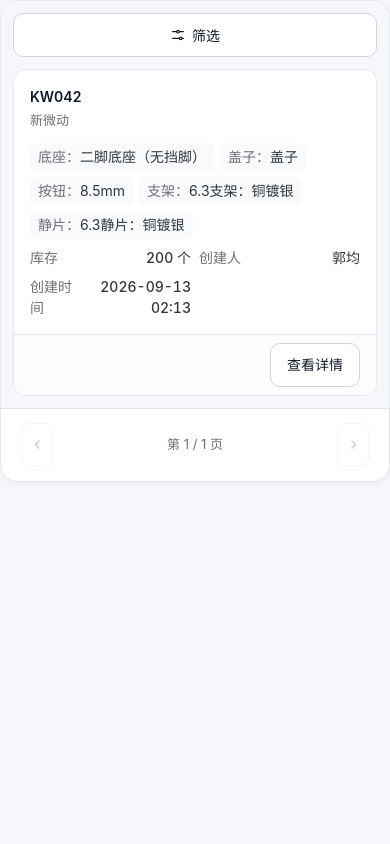
Scenario: 表格渲染 BOM 行，编码入口可打开详情
Click the button "查看详情".
click(315, 364)  # box [270,342,360,386]
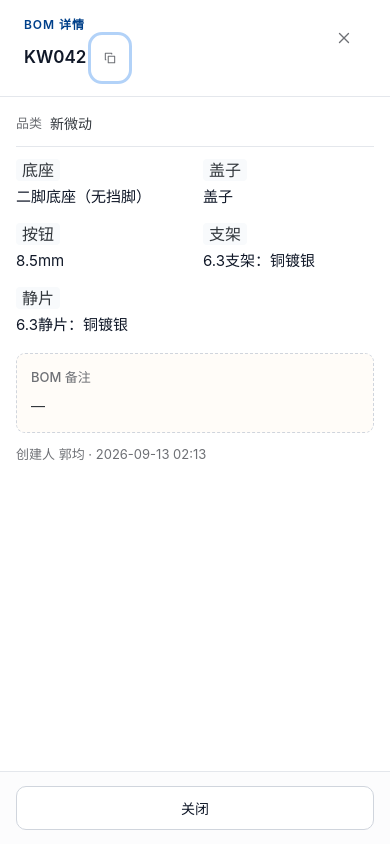
Expected: the dialog shows "6.3支架：铜镀银", [203,251,315,270]
